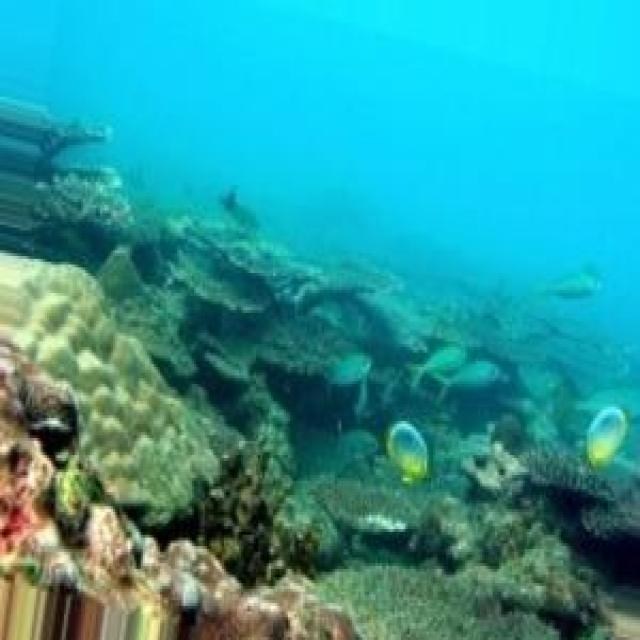bleached coral: (44, 510, 206, 630), (334, 220, 427, 348), (44, 329, 172, 421)
healthy coral: (543, 507, 640, 605), (391, 428, 437, 506)
